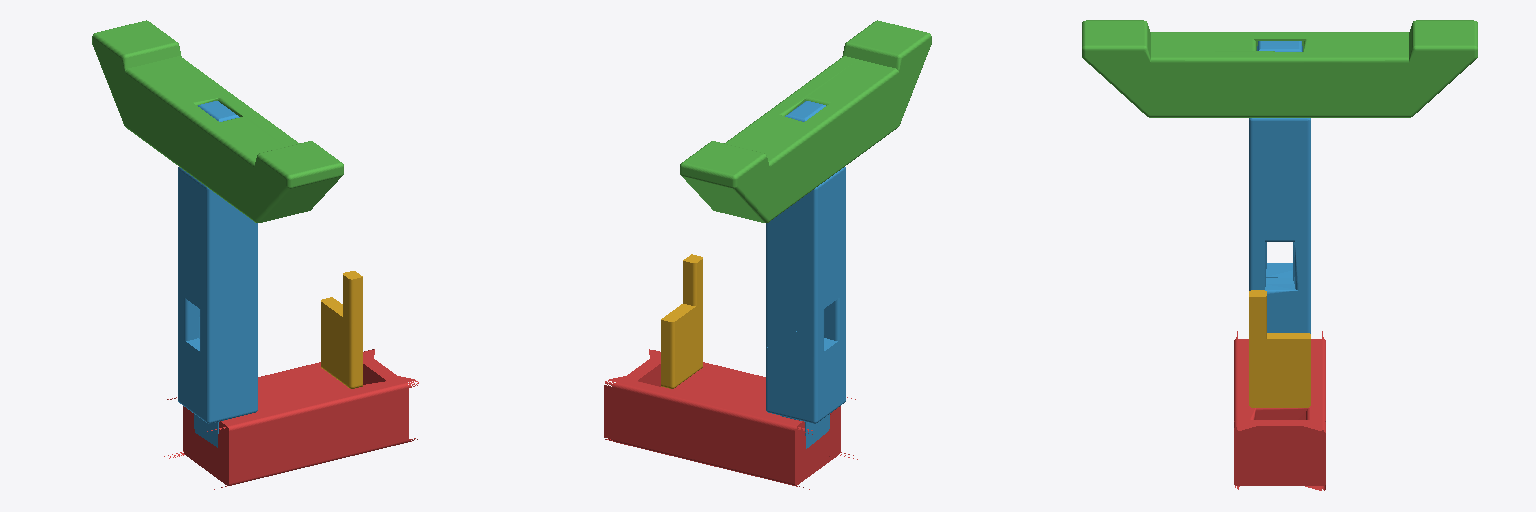
robot.urdf — fixture_beam_3x_part_1:
<?xml version="1.0" encoding="utf-8"?>
<robot name="fixture_beam_3x_part_1">
  <link name="root"/>
  <material name="part_6">
    <color rgba="0.8500 0.3000 0.3000 1.0000"/>
  </material>
  <link name="part_6">
    <visual>
      <origin xyz="0 0 0" rpy="0 0 0"/>
      <geometry>
        <mesh filename="../6/coacd/decomp_1.obj" scale="1 1 1"/>
      </geometry>
      <material name="part_6"/>
    </visual>
    <collision>
      <origin xyz="0 0 0" rpy="0 0 0"/>
      <geometry>
        <mesh filename="../6/coacd/decomp_1.obj" scale="1 1 1"/>
      </geometry>
    </collision>
    <visual>
      <origin xyz="0 0 0" rpy="0 0 0"/>
      <geometry>
        <mesh filename="../6/coacd/decomp_10.obj" scale="1 1 1"/>
      </geometry>
      <material name="part_6"/>
    </visual>
    <collision>
      <origin xyz="0 0 0" rpy="0 0 0"/>
      <geometry>
        <mesh filename="../6/coacd/decomp_10.obj" scale="1 1 1"/>
      </geometry>
    </collision>
    <visual>
      <origin xyz="0 0 0" rpy="0 0 0"/>
      <geometry>
        <mesh filename="../6/coacd/decomp_11.obj" scale="1 1 1"/>
      </geometry>
      <material name="part_6"/>
    </visual>
    <collision>
      <origin xyz="0 0 0" rpy="0 0 0"/>
      <geometry>
        <mesh filename="../6/coacd/decomp_11.obj" scale="1 1 1"/>
      </geometry>
    </collision>
    <visual>
      <origin xyz="0 0 0" rpy="0 0 0"/>
      <geometry>
        <mesh filename="../6/coacd/decomp_2.obj" scale="1 1 1"/>
      </geometry>
      <material name="part_6"/>
    </visual>
    <collision>
      <origin xyz="0 0 0" rpy="0 0 0"/>
      <geometry>
        <mesh filename="../6/coacd/decomp_2.obj" scale="1 1 1"/>
      </geometry>
    </collision>
    <visual>
      <origin xyz="0 0 0" rpy="0 0 0"/>
      <geometry>
        <mesh filename="../6/coacd/decomp_4.obj" scale="1 1 1"/>
      </geometry>
      <material name="part_6"/>
    </visual>
    <collision>
      <origin xyz="0 0 0" rpy="0 0 0"/>
      <geometry>
        <mesh filename="../6/coacd/decomp_4.obj" scale="1 1 1"/>
      </geometry>
    </collision>
    <visual>
      <origin xyz="0 0 0" rpy="0 0 0"/>
      <geometry>
        <mesh filename="../6/coacd/decomp_5.obj" scale="1 1 1"/>
      </geometry>
      <material name="part_6"/>
    </visual>
    <collision>
      <origin xyz="0 0 0" rpy="0 0 0"/>
      <geometry>
        <mesh filename="../6/coacd/decomp_5.obj" scale="1 1 1"/>
      </geometry>
    </collision>
    <visual>
      <origin xyz="0 0 0" rpy="0 0 0"/>
      <geometry>
        <mesh filename="../6/coacd/decomp_6.obj" scale="1 1 1"/>
      </geometry>
      <material name="part_6"/>
    </visual>
    <collision>
      <origin xyz="0 0 0" rpy="0 0 0"/>
      <geometry>
        <mesh filename="../6/coacd/decomp_6.obj" scale="1 1 1"/>
      </geometry>
    </collision>
    <visual>
      <origin xyz="0 0 0" rpy="0 0 0"/>
      <geometry>
        <mesh filename="../6/coacd/decomp_8.obj" scale="1 1 1"/>
      </geometry>
      <material name="part_6"/>
    </visual>
    <collision>
      <origin xyz="0 0 0" rpy="0 0 0"/>
      <geometry>
        <mesh filename="../6/coacd/decomp_8.obj" scale="1 1 1"/>
      </geometry>
    </collision>
    <visual>
      <origin xyz="0 0 0" rpy="0 0 0"/>
      <geometry>
        <mesh filename="../6/coacd/decomp_9.obj" scale="1 1 1"/>
      </geometry>
      <material name="part_6"/>
    </visual>
    <collision>
      <origin xyz="0 0 0" rpy="0 0 0"/>
      <geometry>
        <mesh filename="../6/coacd/decomp_9.obj" scale="1 1 1"/>
      </geometry>
    </collision>
  </link>
  <joint name="root_to_part_6" type="fixed">
    <parent link="root"/>
    <child link="part_6"/>
    <origin xyz="-0.000000 -0.000000 0.018998" rpy="0.000000 0.000000 0.000000"/>
  </joint>
  <material name="part_2">
    <color rgba="0.3000 0.6500 0.8500 1.0000"/>
  </material>
  <link name="part_2">
    <visual>
      <origin xyz="0 0 0" rpy="0 0 0"/>
      <geometry>
        <mesh filename="../2/coacd/decomp_0.obj" scale="1 1 1"/>
      </geometry>
      <material name="part_2"/>
    </visual>
    <collision>
      <origin xyz="0 0 0" rpy="0 0 0"/>
      <geometry>
        <mesh filename="../2/coacd/decomp_0.obj" scale="1 1 1"/>
      </geometry>
    </collision>
    <visual>
      <origin xyz="0 0 0" rpy="0 0 0"/>
      <geometry>
        <mesh filename="../2/coacd/decomp_1.obj" scale="1 1 1"/>
      </geometry>
      <material name="part_2"/>
    </visual>
    <collision>
      <origin xyz="0 0 0" rpy="0 0 0"/>
      <geometry>
        <mesh filename="../2/coacd/decomp_1.obj" scale="1 1 1"/>
      </geometry>
    </collision>
    <visual>
      <origin xyz="0 0 0" rpy="0 0 0"/>
      <geometry>
        <mesh filename="../2/coacd/decomp_10.obj" scale="1 1 1"/>
      </geometry>
      <material name="part_2"/>
    </visual>
    <collision>
      <origin xyz="0 0 0" rpy="0 0 0"/>
      <geometry>
        <mesh filename="../2/coacd/decomp_10.obj" scale="1 1 1"/>
      </geometry>
    </collision>
    <visual>
      <origin xyz="0 0 0" rpy="0 0 0"/>
      <geometry>
        <mesh filename="../2/coacd/decomp_11.obj" scale="1 1 1"/>
      </geometry>
      <material name="part_2"/>
    </visual>
    <collision>
      <origin xyz="0 0 0" rpy="0 0 0"/>
      <geometry>
        <mesh filename="../2/coacd/decomp_11.obj" scale="1 1 1"/>
      </geometry>
    </collision>
    <visual>
      <origin xyz="0 0 0" rpy="0 0 0"/>
      <geometry>
        <mesh filename="../2/coacd/decomp_12.obj" scale="1 1 1"/>
      </geometry>
      <material name="part_2"/>
    </visual>
    <collision>
      <origin xyz="0 0 0" rpy="0 0 0"/>
      <geometry>
        <mesh filename="../2/coacd/decomp_12.obj" scale="1 1 1"/>
      </geometry>
    </collision>
    <visual>
      <origin xyz="0 0 0" rpy="0 0 0"/>
      <geometry>
        <mesh filename="../2/coacd/decomp_13.obj" scale="1 1 1"/>
      </geometry>
      <material name="part_2"/>
    </visual>
    <collision>
      <origin xyz="0 0 0" rpy="0 0 0"/>
      <geometry>
        <mesh filename="../2/coacd/decomp_13.obj" scale="1 1 1"/>
      </geometry>
    </collision>
    <visual>
      <origin xyz="0 0 0" rpy="0 0 0"/>
      <geometry>
        <mesh filename="../2/coacd/decomp_14.obj" scale="1 1 1"/>
      </geometry>
      <material name="part_2"/>
    </visual>
    <collision>
      <origin xyz="0 0 0" rpy="0 0 0"/>
      <geometry>
        <mesh filename="../2/coacd/decomp_14.obj" scale="1 1 1"/>
      </geometry>
    </collision>
    <visual>
      <origin xyz="0 0 0" rpy="0 0 0"/>
      <geometry>
        <mesh filename="../2/coacd/decomp_15.obj" scale="1 1 1"/>
      </geometry>
      <material name="part_2"/>
    </visual>
    <collision>
      <origin xyz="0 0 0" rpy="0 0 0"/>
      <geometry>
        <mesh filename="../2/coacd/decomp_15.obj" scale="1 1 1"/>
      </geometry>
    </collision>
    <visual>
      <origin xyz="0 0 0" rpy="0 0 0"/>
      <geometry>
        <mesh filename="../2/coacd/decomp_2.obj" scale="1 1 1"/>
      </geometry>
      <material name="part_2"/>
    </visual>
    <collision>
      <origin xyz="0 0 0" rpy="0 0 0"/>
      <geometry>
        <mesh filename="../2/coacd/decomp_2.obj" scale="1 1 1"/>
      </geometry>
    </collision>
    <visual>
      <origin xyz="0 0 0" rpy="0 0 0"/>
      <geometry>
        <mesh filename="../2/coacd/decomp_3.obj" scale="1 1 1"/>
      </geometry>
      <material name="part_2"/>
    </visual>
    <collision>
      <origin xyz="0 0 0" rpy="0 0 0"/>
      <geometry>
        <mesh filename="../2/coacd/decomp_3.obj" scale="1 1 1"/>
      </geometry>
    </collision>
    <visual>
      <origin xyz="0 0 0" rpy="0 0 0"/>
      <geometry>
        <mesh filename="../2/coacd/decomp_4.obj" scale="1 1 1"/>
      </geometry>
      <material name="part_2"/>
    </visual>
    <collision>
      <origin xyz="0 0 0" rpy="0 0 0"/>
      <geometry>
        <mesh filename="../2/coacd/decomp_4.obj" scale="1 1 1"/>
      </geometry>
    </collision>
    <visual>
      <origin xyz="0 0 0" rpy="0 0 0"/>
      <geometry>
        <mesh filename="../2/coacd/decomp_5.obj" scale="1 1 1"/>
      </geometry>
      <material name="part_2"/>
    </visual>
    <collision>
      <origin xyz="0 0 0" rpy="0 0 0"/>
      <geometry>
        <mesh filename="../2/coacd/decomp_5.obj" scale="1 1 1"/>
      </geometry>
    </collision>
    <visual>
      <origin xyz="0 0 0" rpy="0 0 0"/>
      <geometry>
        <mesh filename="../2/coacd/decomp_6.obj" scale="1 1 1"/>
      </geometry>
      <material name="part_2"/>
    </visual>
    <collision>
      <origin xyz="0 0 0" rpy="0 0 0"/>
      <geometry>
        <mesh filename="../2/coacd/decomp_6.obj" scale="1 1 1"/>
      </geometry>
    </collision>
    <visual>
      <origin xyz="0 0 0" rpy="0 0 0"/>
      <geometry>
        <mesh filename="../2/coacd/decomp_7.obj" scale="1 1 1"/>
      </geometry>
      <material name="part_2"/>
    </visual>
    <collision>
      <origin xyz="0 0 0" rpy="0 0 0"/>
      <geometry>
        <mesh filename="../2/coacd/decomp_7.obj" scale="1 1 1"/>
      </geometry>
    </collision>
    <visual>
      <origin xyz="0 0 0" rpy="0 0 0"/>
      <geometry>
        <mesh filename="../2/coacd/decomp_8.obj" scale="1 1 1"/>
      </geometry>
      <material name="part_2"/>
    </visual>
    <collision>
      <origin xyz="0 0 0" rpy="0 0 0"/>
      <geometry>
        <mesh filename="../2/coacd/decomp_8.obj" scale="1 1 1"/>
      </geometry>
    </collision>
    <visual>
      <origin xyz="0 0 0" rpy="0 0 0"/>
      <geometry>
        <mesh filename="../2/coacd/decomp_9.obj" scale="1 1 1"/>
      </geometry>
      <material name="part_2"/>
    </visual>
    <collision>
      <origin xyz="0 0 0" rpy="0 0 0"/>
      <geometry>
        <mesh filename="../2/coacd/decomp_9.obj" scale="1 1 1"/>
      </geometry>
    </collision>
  </link>
  <joint name="root_to_part_2" type="fixed">
    <parent link="root"/>
    <child link="part_2"/>
    <origin xyz="-0.047625 -0.000000 0.113075" rpy="0.000000 -1.570796 0.000000"/>
  </joint>
  <material name="part_0">
    <color rgba="0.4000 0.7500 0.3500 1.0000"/>
  </material>
  <link name="part_0">
    <visual>
      <origin xyz="0 0 0" rpy="0 0 0"/>
      <geometry>
        <mesh filename="../0/coacd/decomp_0.obj" scale="1 1 1"/>
      </geometry>
      <material name="part_0"/>
    </visual>
    <collision>
      <origin xyz="0 0 0" rpy="0 0 0"/>
      <geometry>
        <mesh filename="../0/coacd/decomp_0.obj" scale="1 1 1"/>
      </geometry>
    </collision>
    <visual>
      <origin xyz="0 0 0" rpy="0 0 0"/>
      <geometry>
        <mesh filename="../0/coacd/decomp_1.obj" scale="1 1 1"/>
      </geometry>
      <material name="part_0"/>
    </visual>
    <collision>
      <origin xyz="0 0 0" rpy="0 0 0"/>
      <geometry>
        <mesh filename="../0/coacd/decomp_1.obj" scale="1 1 1"/>
      </geometry>
    </collision>
    <visual>
      <origin xyz="0 0 0" rpy="0 0 0"/>
      <geometry>
        <mesh filename="../0/coacd/decomp_2.obj" scale="1 1 1"/>
      </geometry>
      <material name="part_0"/>
    </visual>
    <collision>
      <origin xyz="0 0 0" rpy="0 0 0"/>
      <geometry>
        <mesh filename="../0/coacd/decomp_2.obj" scale="1 1 1"/>
      </geometry>
    </collision>
    <visual>
      <origin xyz="0 0 0" rpy="0 0 0"/>
      <geometry>
        <mesh filename="../0/coacd/decomp_3.obj" scale="1 1 1"/>
      </geometry>
      <material name="part_0"/>
    </visual>
    <collision>
      <origin xyz="0 0 0" rpy="0 0 0"/>
      <geometry>
        <mesh filename="../0/coacd/decomp_3.obj" scale="1 1 1"/>
      </geometry>
    </collision>
    <visual>
      <origin xyz="0 0 0" rpy="0 0 0"/>
      <geometry>
        <mesh filename="../0/coacd/decomp_4.obj" scale="1 1 1"/>
      </geometry>
      <material name="part_0"/>
    </visual>
    <collision>
      <origin xyz="0 0 0" rpy="0 0 0"/>
      <geometry>
        <mesh filename="../0/coacd/decomp_4.obj" scale="1 1 1"/>
      </geometry>
    </collision>
    <visual>
      <origin xyz="0 0 0" rpy="0 0 0"/>
      <geometry>
        <mesh filename="../0/coacd/decomp_5.obj" scale="1 1 1"/>
      </geometry>
      <material name="part_0"/>
    </visual>
    <collision>
      <origin xyz="0 0 0" rpy="0 0 0"/>
      <geometry>
        <mesh filename="../0/coacd/decomp_5.obj" scale="1 1 1"/>
      </geometry>
    </collision>
  </link>
  <joint name="root_to_part_0" type="fixed">
    <parent link="root"/>
    <child link="part_0"/>
    <origin xyz="-0.047625 -0.000000 0.213365" rpy="1.570796 0.000000 -1.570796"/>
  </joint>
  <material name="part_3">
    <color rgba="0.9000 0.7000 0.2000 1.0000"/>
  </material>
  <link name="part_3">
    <visual>
      <origin xyz="0 0 0" rpy="0 0 0"/>
      <geometry>
        <mesh filename="../3/coacd/decomp_0.obj" scale="1 1 1"/>
      </geometry>
      <material name="part_3"/>
    </visual>
    <collision>
      <origin xyz="0 0 0" rpy="0 0 0"/>
      <geometry>
        <mesh filename="../3/coacd/decomp_0.obj" scale="1 1 1"/>
      </geometry>
    </collision>
    <visual>
      <origin xyz="0 0 0" rpy="0 0 0"/>
      <geometry>
        <mesh filename="../3/coacd/decomp_1.obj" scale="1 1 1"/>
      </geometry>
      <material name="part_3"/>
    </visual>
    <collision>
      <origin xyz="0 0 0" rpy="0 0 0"/>
      <geometry>
        <mesh filename="../3/coacd/decomp_1.obj" scale="1 1 1"/>
      </geometry>
    </collision>
    <visual>
      <origin xyz="0 0 0" rpy="0 0 0"/>
      <geometry>
        <mesh filename="../3/coacd/decomp_10.obj" scale="1 1 1"/>
      </geometry>
      <material name="part_3"/>
    </visual>
    <collision>
      <origin xyz="0 0 0" rpy="0 0 0"/>
      <geometry>
        <mesh filename="../3/coacd/decomp_10.obj" scale="1 1 1"/>
      </geometry>
    </collision>
    <visual>
      <origin xyz="0 0 0" rpy="0 0 0"/>
      <geometry>
        <mesh filename="../3/coacd/decomp_11.obj" scale="1 1 1"/>
      </geometry>
      <material name="part_3"/>
    </visual>
    <collision>
      <origin xyz="0 0 0" rpy="0 0 0"/>
      <geometry>
        <mesh filename="../3/coacd/decomp_11.obj" scale="1 1 1"/>
      </geometry>
    </collision>
    <visual>
      <origin xyz="0 0 0" rpy="0 0 0"/>
      <geometry>
        <mesh filename="../3/coacd/decomp_12.obj" scale="1 1 1"/>
      </geometry>
      <material name="part_3"/>
    </visual>
    <collision>
      <origin xyz="0 0 0" rpy="0 0 0"/>
      <geometry>
        <mesh filename="../3/coacd/decomp_12.obj" scale="1 1 1"/>
      </geometry>
    </collision>
    <visual>
      <origin xyz="0 0 0" rpy="0 0 0"/>
      <geometry>
        <mesh filename="../3/coacd/decomp_2.obj" scale="1 1 1"/>
      </geometry>
      <material name="part_3"/>
    </visual>
    <collision>
      <origin xyz="0 0 0" rpy="0 0 0"/>
      <geometry>
        <mesh filename="../3/coacd/decomp_2.obj" scale="1 1 1"/>
      </geometry>
    </collision>
    <visual>
      <origin xyz="0 0 0" rpy="0 0 0"/>
      <geometry>
        <mesh filename="../3/coacd/decomp_3.obj" scale="1 1 1"/>
      </geometry>
      <material name="part_3"/>
    </visual>
    <collision>
      <origin xyz="0 0 0" rpy="0 0 0"/>
      <geometry>
        <mesh filename="../3/coacd/decomp_3.obj" scale="1 1 1"/>
      </geometry>
    </collision>
    <visual>
      <origin xyz="0 0 0" rpy="0 0 0"/>
      <geometry>
        <mesh filename="../3/coacd/decomp_4.obj" scale="1 1 1"/>
      </geometry>
      <material name="part_3"/>
    </visual>
    <collision>
      <origin xyz="0 0 0" rpy="0 0 0"/>
      <geometry>
        <mesh filename="../3/coacd/decomp_4.obj" scale="1 1 1"/>
      </geometry>
    </collision>
    <visual>
      <origin xyz="0 0 0" rpy="0 0 0"/>
      <geometry>
        <mesh filename="../3/coacd/decomp_5.obj" scale="1 1 1"/>
      </geometry>
      <material name="part_3"/>
    </visual>
    <collision>
      <origin xyz="0 0 0" rpy="0 0 0"/>
      <geometry>
        <mesh filename="../3/coacd/decomp_5.obj" scale="1 1 1"/>
      </geometry>
    </collision>
    <visual>
      <origin xyz="0 0 0" rpy="0 0 0"/>
      <geometry>
        <mesh filename="../3/coacd/decomp_6.obj" scale="1 1 1"/>
      </geometry>
      <material name="part_3"/>
    </visual>
    <collision>
      <origin xyz="0 0 0" rpy="0 0 0"/>
      <geometry>
        <mesh filename="../3/coacd/decomp_6.obj" scale="1 1 1"/>
      </geometry>
    </collision>
    <visual>
      <origin xyz="0 0 0" rpy="0 0 0"/>
      <geometry>
        <mesh filename="../3/coacd/decomp_7.obj" scale="1 1 1"/>
      </geometry>
      <material name="part_3"/>
    </visual>
    <collision>
      <origin xyz="0 0 0" rpy="0 0 0"/>
      <geometry>
        <mesh filename="../3/coacd/decomp_7.obj" scale="1 1 1"/>
      </geometry>
    </collision>
    <visual>
      <origin xyz="0 0 0" rpy="0 0 0"/>
      <geometry>
        <mesh filename="../3/coacd/decomp_8.obj" scale="1 1 1"/>
      </geometry>
      <material name="part_3"/>
    </visual>
    <collision>
      <origin xyz="0 0 0" rpy="0 0 0"/>
      <geometry>
        <mesh filename="../3/coacd/decomp_8.obj" scale="1 1 1"/>
      </geometry>
    </collision>
    <visual>
      <origin xyz="0 0 0" rpy="0 0 0"/>
      <geometry>
        <mesh filename="../3/coacd/decomp_9.obj" scale="1 1 1"/>
      </geometry>
      <material name="part_3"/>
    </visual>
    <collision>
      <origin xyz="0 0 0" rpy="0 0 0"/>
      <geometry>
        <mesh filename="../3/coacd/decomp_9.obj" scale="1 1 1"/>
      </geometry>
    </collision>
  </link>
  <joint name="root_to_part_3" type="fixed">
    <parent link="root"/>
    <child link="part_3"/>
    <origin xyz="0.047625 -0.000000 0.113075" rpy="0.000000 -1.570796 0.000000"/>
  </joint>
</robot>

--- What the picture shows (computed from the rendered views, not written in the file) ---
Views: 3 orthographic renders of the robot side by side, from view 1: azimuth 30°, elevation 25°; view 2: azimuth 150°, elevation 25°; view 3: azimuth 270°, elevation 25°.
Model fixture_beam_3x_part_1 with 5 links and 4 joints (4 fixed), rooted at root, posed every joint at zero.
Visible links, largest first — view 1: part_0, part_2, part_6, part_3; view 2: part_0, part_2, part_6, part_3; view 3: part_0, part_2, part_6, part_3.
Link boxes in pixels (x1,y1,x2,y2): part_0: (92,20,343,222); part_2: (178,101,257,447); part_6: (164,349,418,489); part_3: (321,271,362,388); part_0: (680,20,931,222); part_2: (766,101,845,448); part_6: (604,349,857,489); part_3: (661,254,702,388); part_0: (1082,20,1477,117); part_2: (1249,41,1310,333); part_6: (1234,331,1325,490); part_3: (1249,290,1310,407).
Size in the robot's own frame: 0.1415 by 0.2286 by 0.2362 metres.
33 mesh visuals loaded from 44 distinct referenced files (31 OBJ); not drawn: 11 (reference not matched to a file when rendering).
